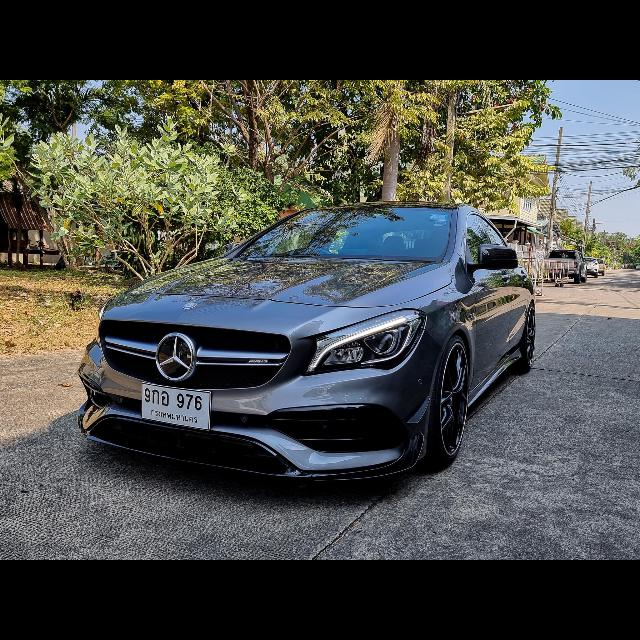cars: (74, 174, 540, 500)
